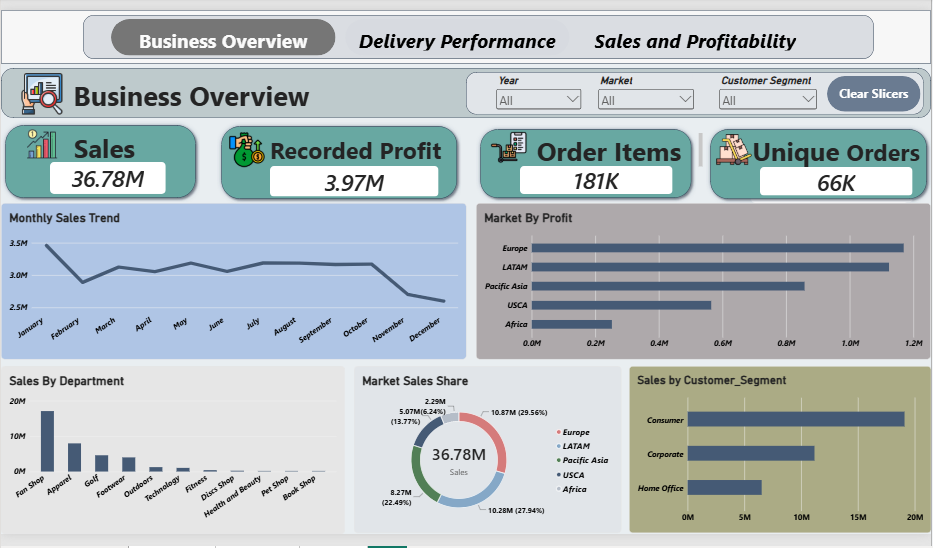

Layout of this report page (visuals, bound fields, positions):
{"tool":"powerbi","page":{"name":"Business","canvas":[1920,1080],"ordinal":0},"visuals":[{"type":"shape","box":[0,0,1920,110.9],"z":0,"group":"g12"},{"type":"group","id":"g1","title":"Group 1","box":[0,229.3,410.7,167.5],"z":0,"group":"g4"},{"type":"shape","box":[0,229.3,410.7,167.5],"z":0,"group":"g1"},{"type":"group","id":"g2","title":"Group 1","box":[446.4,230.8,504.4,167.5],"z":0,"group":"g6"},{"type":"shape","box":[446.4,230.8,504.4,167.5],"z":0,"group":"g2"},{"type":"shape","box":[1456.4,236.9,464.5,161.5],"z":0,"group":"g16"},{"type":"group","id":"g3","title":"Group 1","box":[980.9,237.3,468.5,159.5],"z":0,"group":"g8"},{"type":"shape","box":[980.9,237.3,453.6,159.5],"z":0,"group":"g3"},{"type":"cardVisual","fields":{"Data":["SupplyChain.Order Items"]},"box":[1549.6,332.6,332.6,65.5],"z":0},{"type":"shape","box":[168.8,10.1,1632.8,90.7],"z":1000,"group":"g13"},{"type":"group","id":"g4","title":"Group 3","box":[0,229.3,410.7,167.5],"z":1000},{"type":"image","box":[0,236.7,169.5,81.7],"z":1000,"group":"g4"},{"type":"cardVisual","fields":{"Data":["SupplyChain.Total Sales"]},"box":[101.7,314.6,239.3,66.6],"z":1000,"group":"g1"},{"type":"cardVisual","fields":{"Data":["SupplyChain.Recorded Profit"]},"box":[555.2,320.9,348.9,63.8],"z":1000,"group":"g2"},{"type":"cardVisual","fields":{"Data":["SupplyChain.Order Items"]},"box":[1071.4,322.6,315.2,58.4],"z":1000,"group":"g3"},{"type":"cardVisual","fields":{"Data":["SupplyChain.Unique Orders"]},"box":[1549.2,330.3,325,68],"z":1000,"group":"g5"},{"type":"actionButton","box":[226.8,17.7,463.6,75.6],"z":2000,"group":"g13"},{"type":"group","id":"g5","title":"Group 1","box":[1456.4,236.9,464.5,161.5],"z":2000},{"type":"textbox","box":[99.8,247.1,228.1,80.9],"z":2000,"group":"g1"},{"type":"textbox","box":[1543.6,253.2,363.6,70.5],"z":2000,"group":"g16"},{"type":"textbox","box":[1070.2,253.4,379.3,69.6],"z":2000,"group":"g3"},{"type":"textbox","box":[538.1,254.8,390.6,78.1],"z":2000,"group":"g2"},{"type":"lineChart","title":"Monthly Sales Trend","fields":{"Y":["SupplyChain.Total Sales"],"Category":["SupplyChain.Months.Variation.Date Hierarchy.Month"]},"box":[0,398.8,961,323],"z":3000},{"type":"actionButton","box":[710.5,17.7,463.6,75.6],"z":4000,"group":"g13"},{"type":"shape","box":[0,119.6,1920,103.3],"z":4000,"group":"g11"},{"type":"clusteredBarChart","title":"Sales by Customer_Segment","fields":{"Category":["SupplyChain.Customer_Segment"],"Y":["SupplyChain.Total Sales"]},"box":[1296,735.7,624,344.9],"z":4000},{"type":"actionButton","box":[1201.9,17.7,463.6,75.6],"z":5000,"group":"g13"},{"type":"textbox","box":[108.3,137.2,851.7,85.7],"z":5000,"group":"g11"},{"type":"clusteredColumnChart","title":"Sales By Department","fields":{"Category":["SupplyChain.Department_Name"],"Y":["SupplyChain.Total Sales"]},"box":[0,735.7,709.8,346.9],"z":5000},{"type":"group","id":"g6","title":"Group 3","box":[446.4,230.8,504.4,167.5],"z":6000,"group":"g9"},{"type":"donutChart","title":"Market Sales Share","fields":{"Category":["SupplyChain.Market"],"Y":["SupplyChain.Total Sales"]},"box":[729.7,735.7,552.3,344.9],"z":6000},{"type":"image","box":[456,251.9,103.3,73.1],"z":6006,"group":"g9"},{"type":"image","box":[998.8,246.3,97.4,76.4],"z":6008,"group":"g8"},{"type":"image","box":[0,129.7,168.8,85.7],"z":6010,"group":"g11"},{"type":"group","id":"g7","title":"Group 7","box":[1456.4,236.9,464.5,161.5],"z":6010,"group":"g5"},{"type":"group","id":"g8","title":"Group 6","box":[980.9,237.3,468.5,159.5],"z":6010,"group":"g10"},{"type":"image","box":[1462.8,250.9,103.5,72.8],"z":6010,"group":"g16"},{"type":"group","id":"g9","title":"Group 4","box":[446.4,230.8,504.4,167.5],"z":7000},{"type":"group","id":"g10","title":"Group 5","box":[980.9,237.3,468.5,159.5],"z":8000},{"type":"cardVisual","fields":{"Data":["SupplyChain.Unique Orders"]},"box":[1567.1,325,315,59.8],"z":9000},{"type":"group","id":"g11","title":"Group 8","box":[0,119.6,1920,103.3],"z":10000,"group":"g15"},{"type":"clusteredBarChart","title":"Market By Profit","fields":{"Category":["SupplyChain.Market"],"Y":["SupplyChain.Recorded Profit"]},"box":[980.9,398.8,939.1,323],"z":10000},{"type":"group","id":"g12","title":"Group 11","box":[0,0,1920,110.9],"z":11000},{"type":"group","id":"g13","title":"Group 10","box":[168.8,10.1,1632.8,90.7],"z":11000,"group":"g12"},{"type":"group","id":"g14","title":"Group 12","box":[0,119.6,1920,103.3],"z":12000},{"type":"group","id":"g15","title":"Group 2","box":[0,119.6,1920,103.3],"z":12000,"group":"g14"},{"type":"slicer","fields":{"Values":["SupplyChain.Months.Variation.Date Hierarchy.Year","SupplyChain.Months.Variation.Date Hierarchy.Month"]},"box":[1016.8,131.6,185.4,79.8],"z":13000,"group":"g15"},{"type":"actionButton","box":[1704.7,135.6,193.4,73.8],"z":13000,"group":"g14"},{"type":"shape","box":[961,128.3,945,87.7],"z":13001,"group":"g11"},{"type":"group","id":"g16","title":"Group 9","box":[1456.4,236.9,464.5,161.5],"z":13001,"group":"g7"},{"type":"slicer","fields":{"Values":["SupplyChain.Market"]},"box":[1228.2,131.6,207.4,79.8],"z":14000,"group":"g15"},{"type":"slicer","fields":{"Values":["SupplyChain.Customer_Segment"]},"box":[1477.4,131.6,211.3,79.8],"z":15000,"group":"g15"}]}

Visuals, with their boxes on the page's 1920x1080 design canvas (x1, y1, x2, y2). These are canvas units, not pixel positions in the 933x548 screenshot, which may show the page scaled, cropped or inside an application window:
shape: select_region(0, 0, 1920, 111)
"Group 1" group: select_region(0, 229, 411, 397)
shape: select_region(0, 229, 411, 397)
"Group 1" group: select_region(446, 231, 951, 398)
shape: select_region(446, 231, 951, 398)
shape: select_region(1456, 237, 1921, 398)
"Group 1" group: select_region(981, 237, 1449, 397)
shape: select_region(981, 237, 1434, 397)
cardVisual - SupplyChain.Order Items: select_region(1550, 333, 1882, 398)
shape: select_region(169, 10, 1802, 101)
"Group 3" group: select_region(0, 229, 411, 397)
image: select_region(0, 237, 170, 318)
cardVisual - SupplyChain.Total Sales: select_region(102, 315, 341, 381)
cardVisual - SupplyChain.Recorded Profit: select_region(555, 321, 904, 385)
cardVisual - SupplyChain.Order Items: select_region(1071, 323, 1387, 381)
cardVisual - SupplyChain.Unique Orders: select_region(1549, 330, 1874, 398)
actionButton: select_region(227, 18, 690, 93)
"Group 1" group: select_region(1456, 237, 1921, 398)
textbox: select_region(100, 247, 328, 328)
textbox: select_region(1544, 253, 1907, 324)
textbox: select_region(1070, 253, 1450, 323)
textbox: select_region(538, 255, 929, 333)
"Monthly Sales Trend" lineChart: select_region(0, 399, 961, 722)
actionButton: select_region(710, 18, 1174, 93)
shape: select_region(0, 120, 1920, 223)
"Sales by Customer_Segment" clusteredBarChart: select_region(1296, 736, 1920, 1081)
actionButton: select_region(1202, 18, 1666, 93)
textbox: select_region(108, 137, 960, 223)
"Sales By Department" clusteredColumnChart: select_region(0, 736, 710, 1083)
"Group 3" group: select_region(446, 231, 951, 398)
"Market Sales Share" donutChart: select_region(730, 736, 1282, 1081)
image: select_region(456, 252, 559, 325)
image: select_region(999, 246, 1096, 323)
image: select_region(0, 130, 169, 215)
"Group 7" group: select_region(1456, 237, 1921, 398)
"Group 6" group: select_region(981, 237, 1449, 397)
image: select_region(1463, 251, 1566, 324)
"Group 4" group: select_region(446, 231, 951, 398)
"Group 5" group: select_region(981, 237, 1449, 397)
cardVisual - SupplyChain.Unique Orders: select_region(1567, 325, 1882, 385)
"Group 8" group: select_region(0, 120, 1920, 223)
"Market By Profit" clusteredBarChart: select_region(981, 399, 1920, 722)
"Group 11" group: select_region(0, 0, 1920, 111)
"Group 10" group: select_region(169, 10, 1802, 101)
"Group 12" group: select_region(0, 120, 1920, 223)
"Group 2" group: select_region(0, 120, 1920, 223)
slicer - SupplyChain.Months.Variation.Date Hierarchy.Year x SupplyChain.Months.Variation.Date Hierarchy.Month: select_region(1017, 132, 1202, 211)
actionButton: select_region(1705, 136, 1898, 209)
shape: select_region(961, 128, 1906, 216)
"Group 9" group: select_region(1456, 237, 1921, 398)
slicer - SupplyChain.Market: select_region(1228, 132, 1436, 211)
slicer - SupplyChain.Customer_Segment: select_region(1477, 132, 1689, 211)
